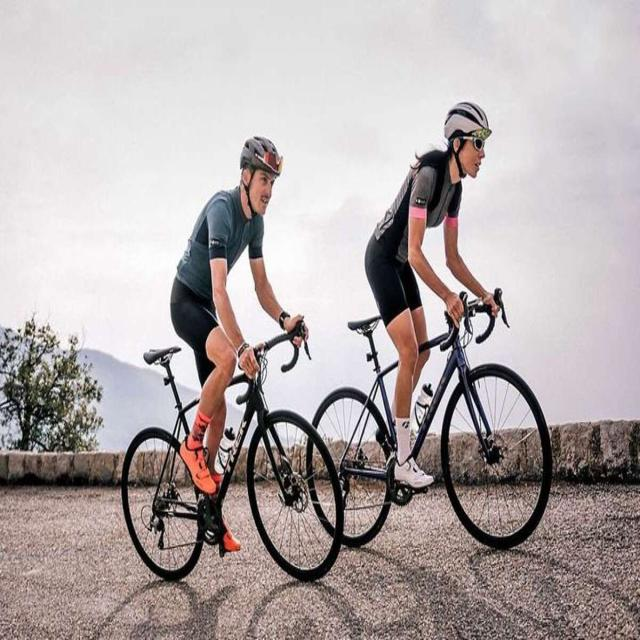bicycle: (314, 102, 552, 549), (121, 138, 344, 580)
